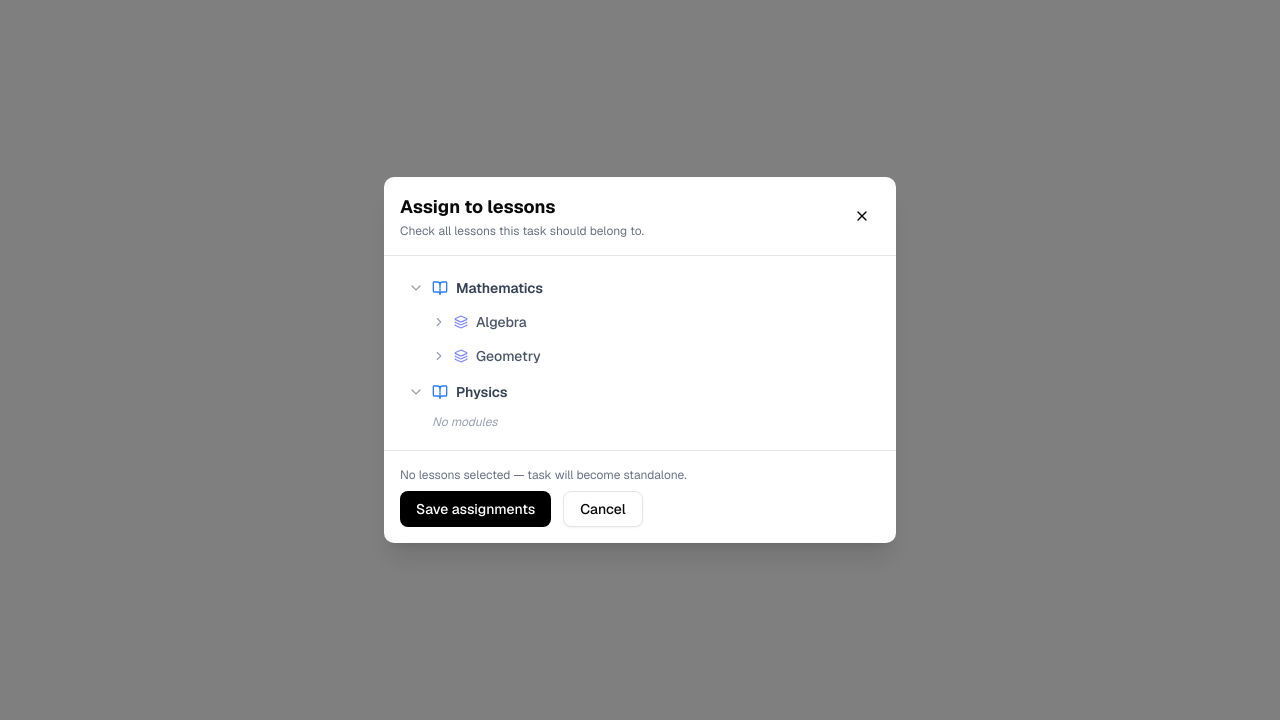
Test case: AssignToLessonDialog › checking a lesson updates the counter in the footer
The image size is (1280, 720).
Check: the button "Mathematics" is shown, box top-left (400, 272), bottom-right (880, 304)
Click the button with test id "module-module-1" at (501, 322), box top-left (424, 306), bottom-right (880, 338)
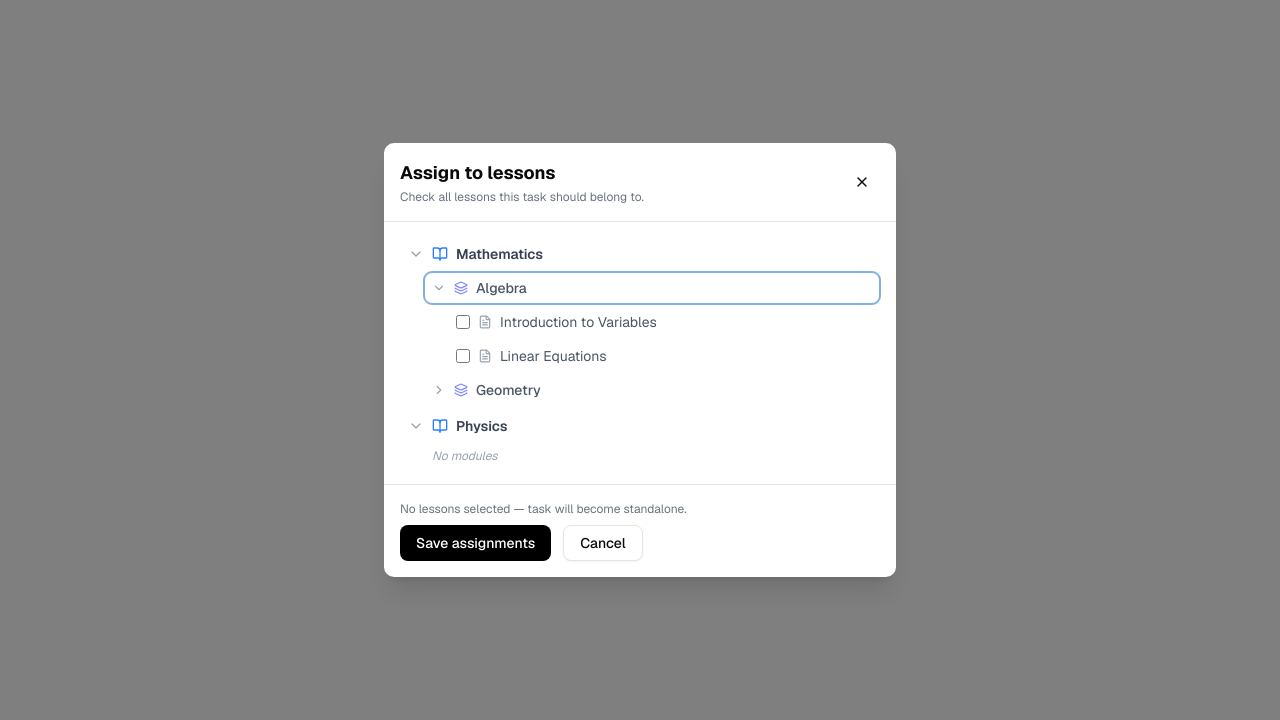
Click the checkbox labelled "Introduction to Variables" at (463, 322), box top-left (456, 315), bottom-right (470, 329)
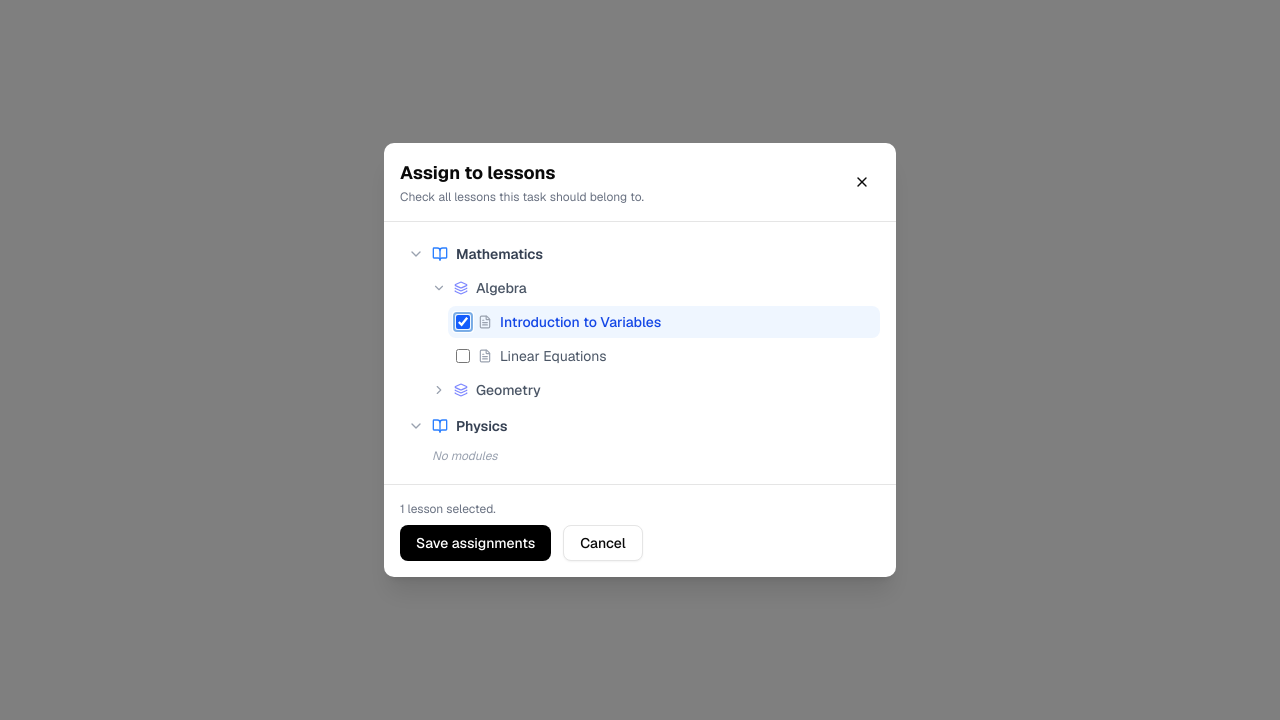
Check: the text "1 lesson selected." is shown, box top-left (400, 501), bottom-right (496, 517)
